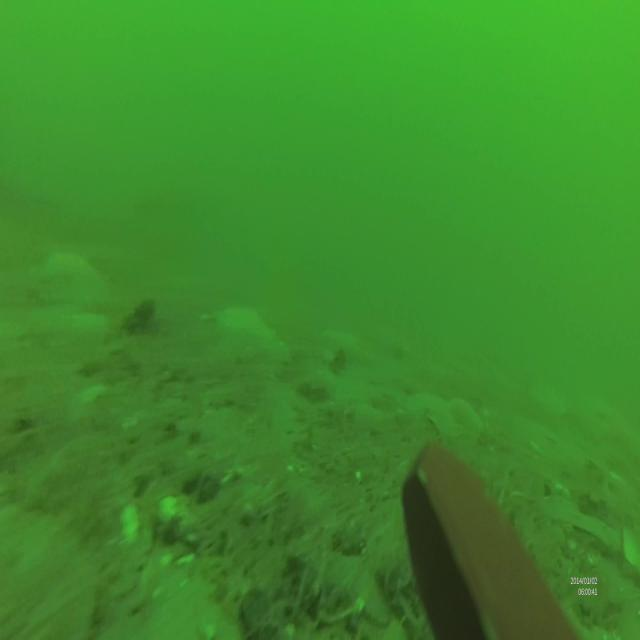starfish: (1, 499, 101, 640), (32, 258, 113, 308), (215, 306, 277, 351), (406, 390, 464, 438), (452, 399, 480, 442)
